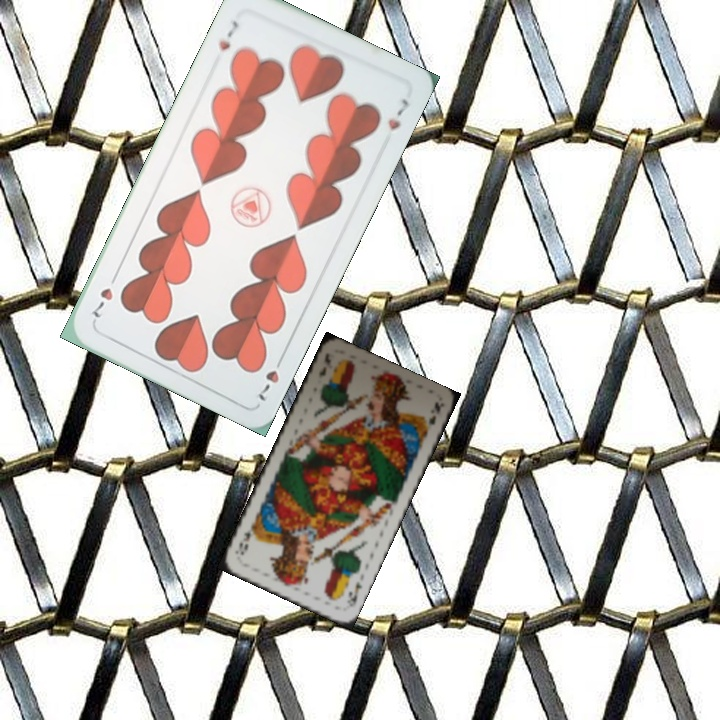EK: (342, 577, 364, 610), (314, 349, 333, 380)
H7: (254, 350, 287, 404), (214, 16, 241, 53)
